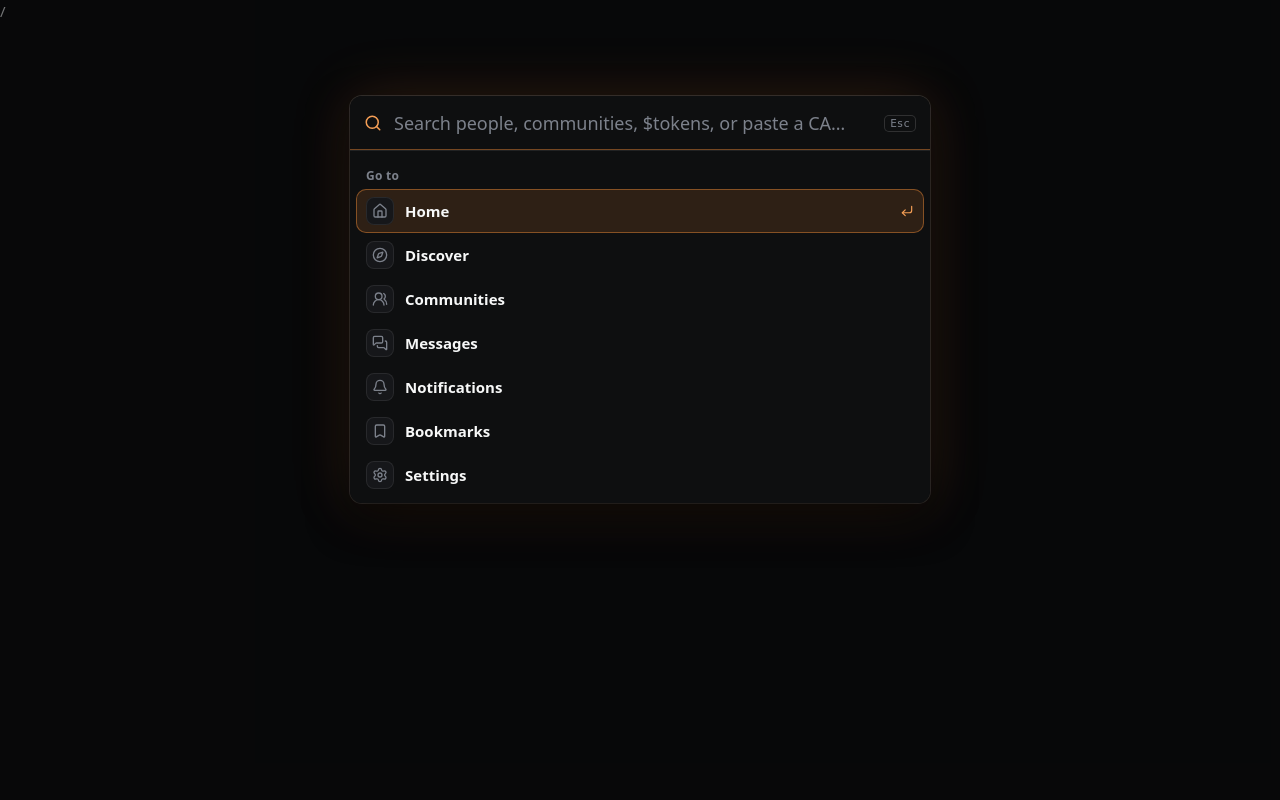
CommandPalette › filters pages by name with no query needed
Step 1. Type "set" into the dropdown → (633, 123), box x1=392 y1=96 x2=874 y2=150
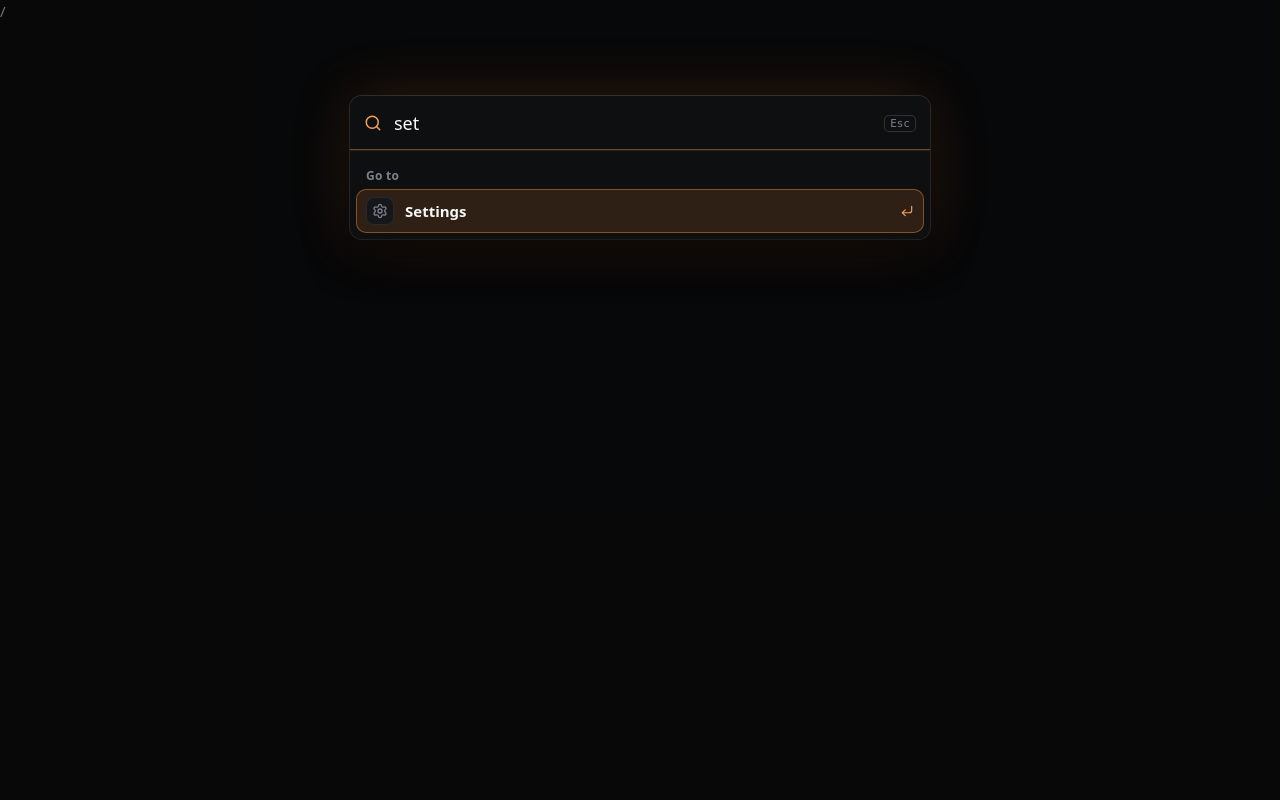
Expected: the options read "Settings", in this order, x1=356 y1=189 x2=924 y2=233
